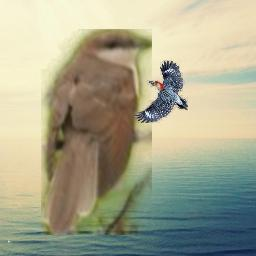Cuckoo: (41, 29, 152, 235)
Woodpecker: (134, 60, 188, 123)
